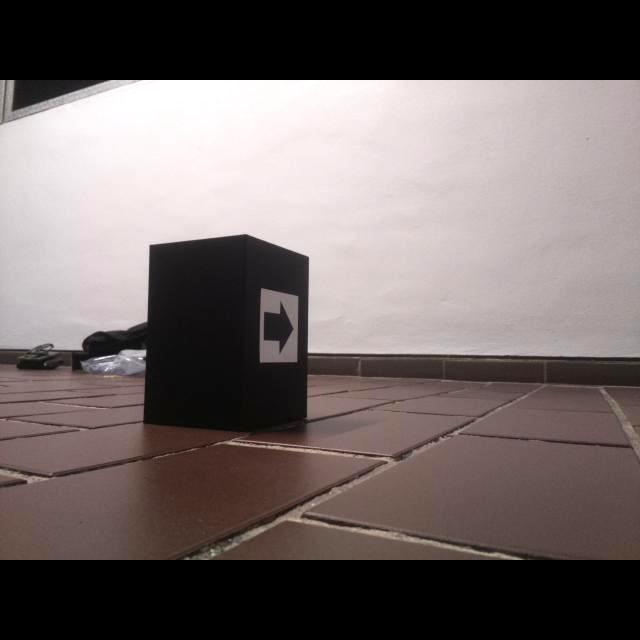RIGHT: (264, 302, 294, 353)
